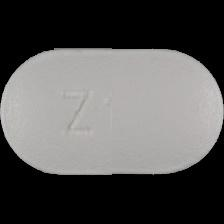68382-137: (0, 0, 224, 224)
